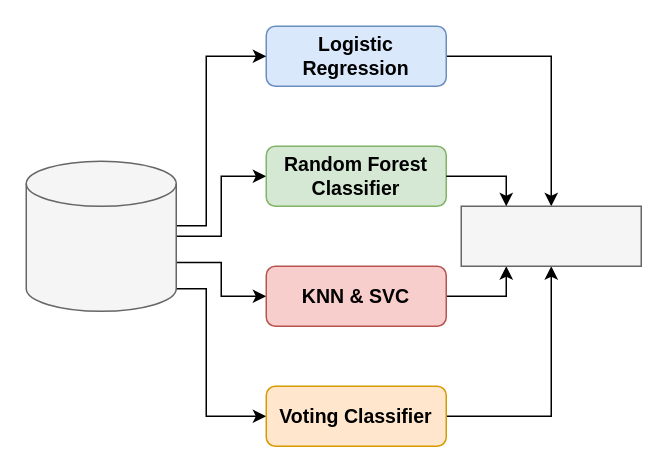
This 668x473 diagram has some shape labels left out. The shapes that lost their labels are listed below. From the top down, each one's centre as x and y in pixels, then its label:
At point 100,235: "Data".
At point 550,235: "Prediction".
